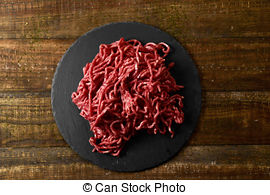ground_beef: (71, 40, 183, 147)
